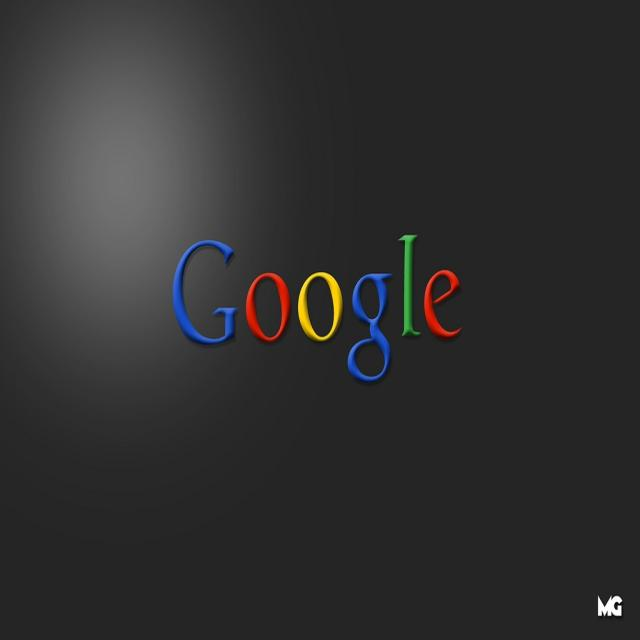google: (169, 225, 475, 387)
